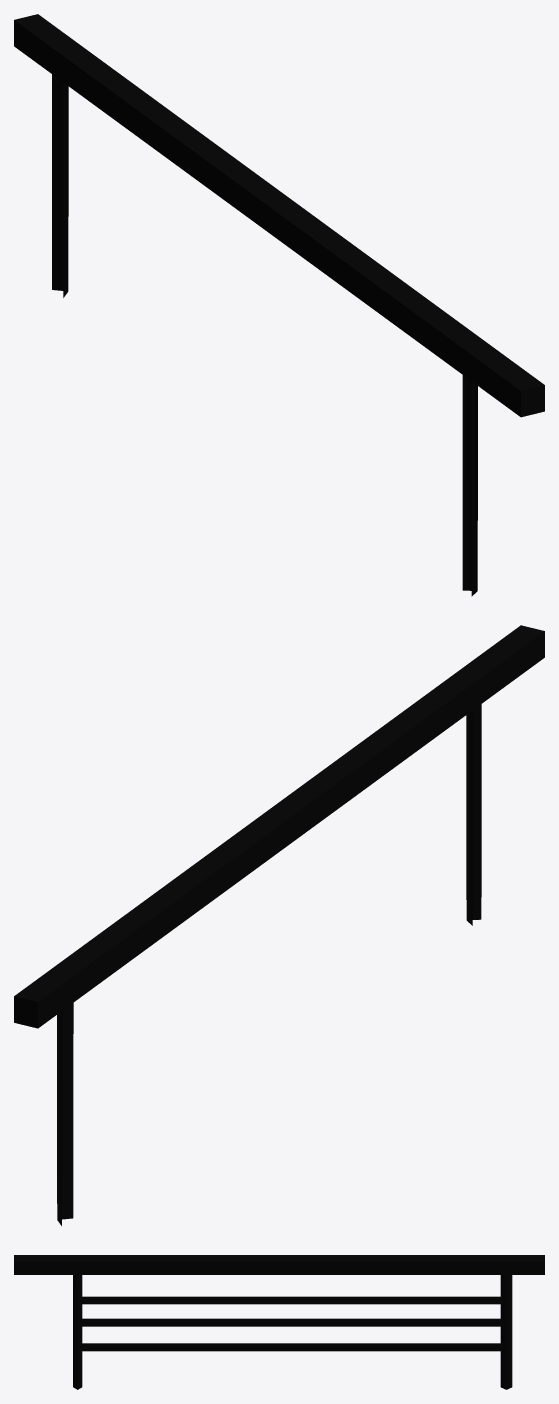
File: BlockChain_Bridge_Fragment_Art.glb
The picture shows the model from 3 angles, top to bottom: view 1: azimuth 30°, elevation 25°; view 2: azimuth 150°, elevation 25°; view 3: azimuth 270°, elevation 25°; orthographic projection. The views are drawn at different scales.
Visible parts, largest first — view 1: BlockChain_Bridge_Fragment_Art; view 2: BlockChain_Bridge_Fragment_Art; view 3: BlockChain_Bridge_Fragment_Art.
Part boxes in pixels (x1,y1,x2,y2): BlockChain_Bridge_Fragment_Art: (14, 14, 544, 596); BlockChain_Bridge_Fragment_Art: (14, 625, 544, 1225); BlockChain_Bridge_Fragment_Art: (14, 1255, 544, 1389).
Bounding box in the file's own units: 0.1164 × 1.15 × 4.25.
Materials: 1 (1 with a texture image).
